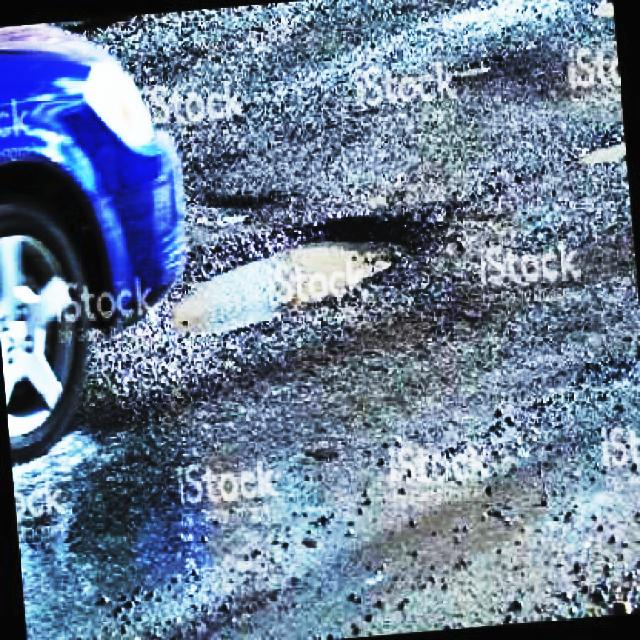pothole: (144, 209, 442, 345)
